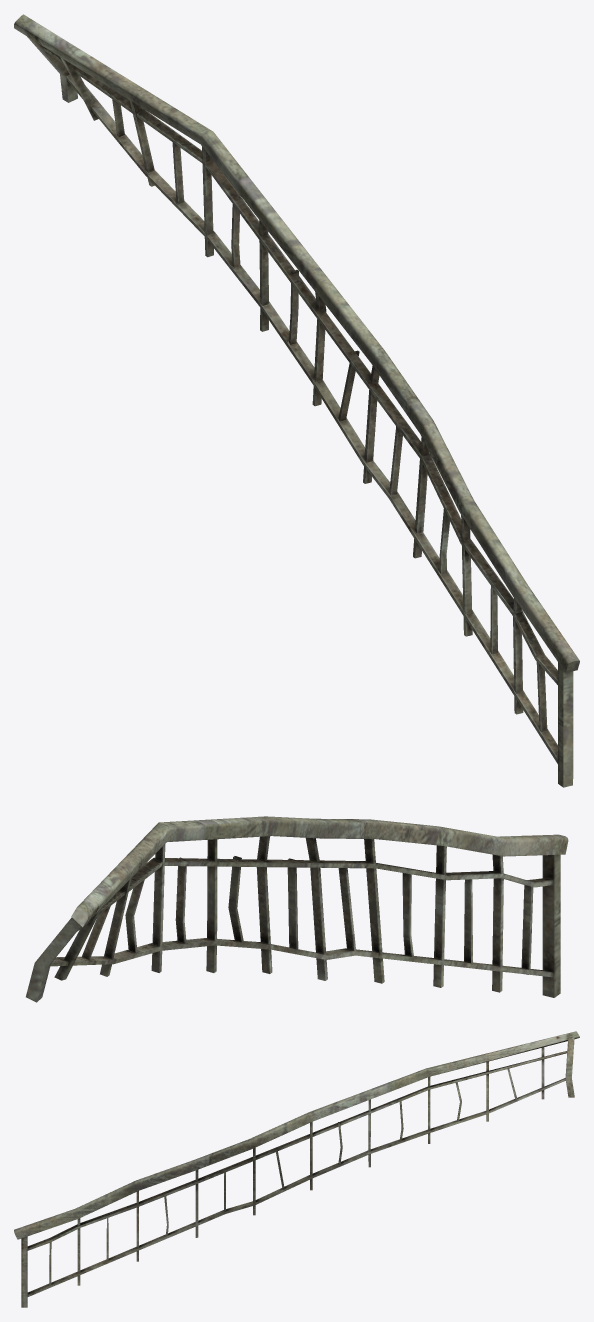
The model's file is Railings_T02.FBX.
The picture shows the model from 3 angles, top to bottom: view 1: azimuth 30°, elevation 25°; view 2: azimuth 150°, elevation 25°; view 3: azimuth 270°, elevation 25°; orthographic projection. The views are drawn at different scales.
Visible parts, largest first — view 1: Railings_T02; view 2: Railings_T02; view 3: Railings_T02.
Part boxes in pixels (x1=…): Railings_T02: x1=14, y1=14, x2=579, y2=787; Railings_T02: x1=26, y1=816, x2=568, y2=1002; Railings_T02: x1=14, y1=1031, x2=579, y2=1307.
Bounding box in the file's own units: 69.35 × 319 × 639.
